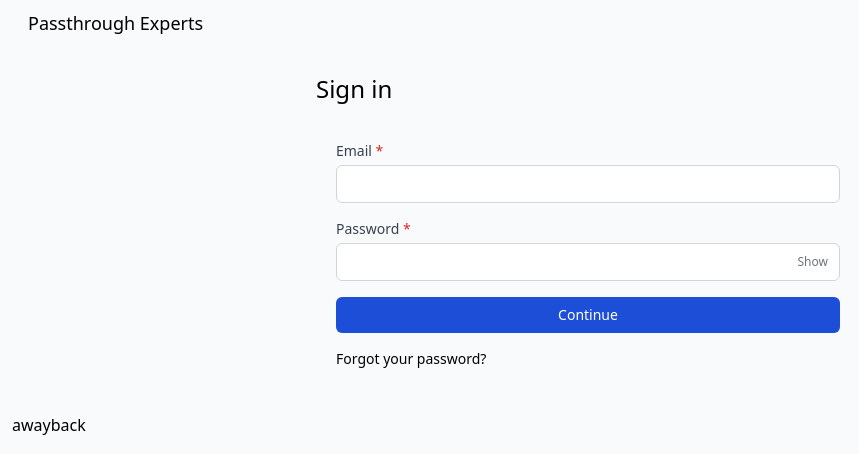
Test case: two-factor enrolment › B10 the setup key is requested once, even when the screen is left and come back to (the server replaces the key on every request)
Type "a@b.co" into the field labelled "Email *" at (588, 184), box x1=336 y1=165 x2=840 y2=203
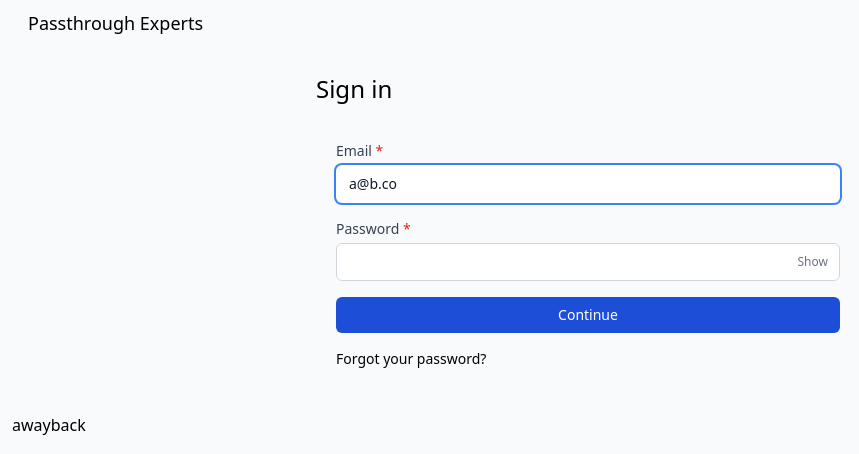
Type "pw" into the password field labelled "Password *" at (588, 262), box x1=336 y1=243 x2=840 y2=281
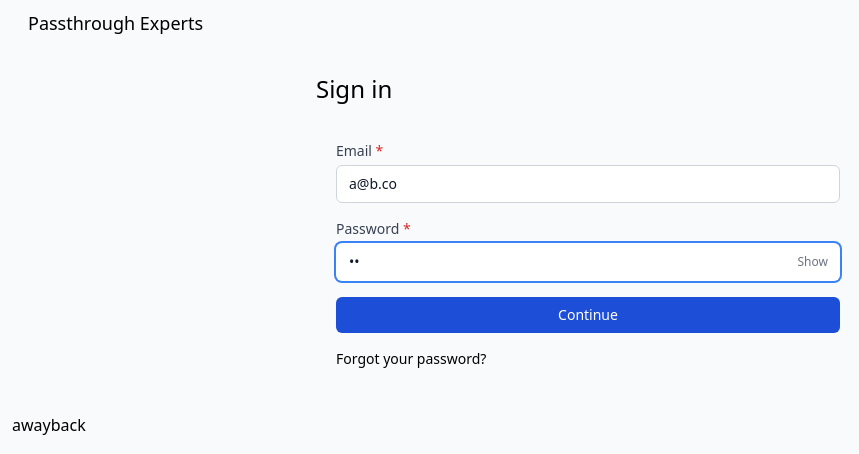
Click the button "Continue" at (588, 315), box x1=336 y1=297 x2=840 y2=333
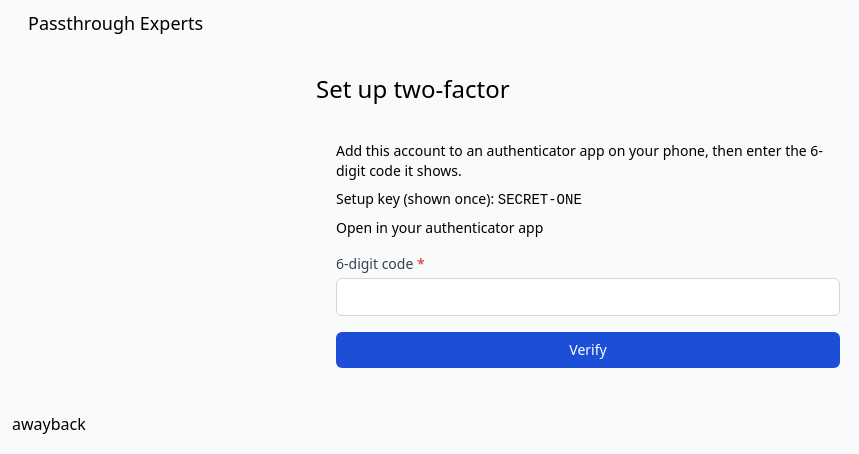
Check: the text with test id "setup-secret" reads "SECRET-ONE", box x1=498 y1=192 x2=582 y2=208
Click the link "away" at (31, 424), box x1=12 y1=413 x2=51 y2=435
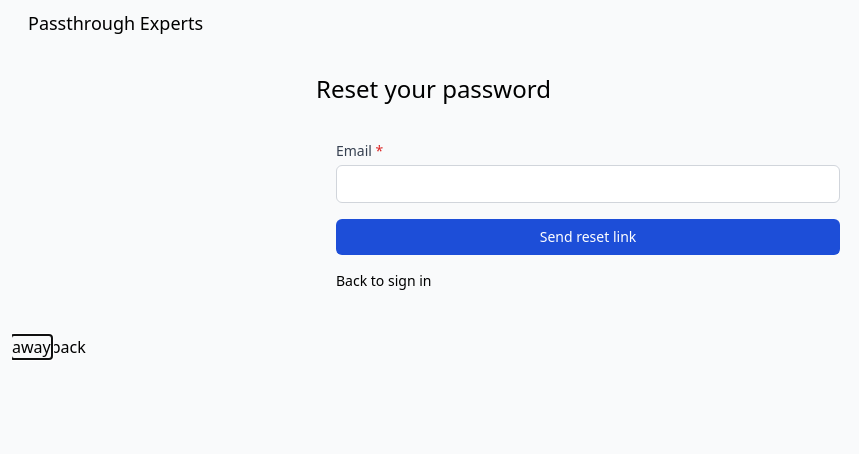
Check: the heading "Reset your password" is shown, box x1=316 y1=72 x2=551 y2=105
Click the link "back" at (68, 347), box x1=51 y1=336 x2=86 y2=358
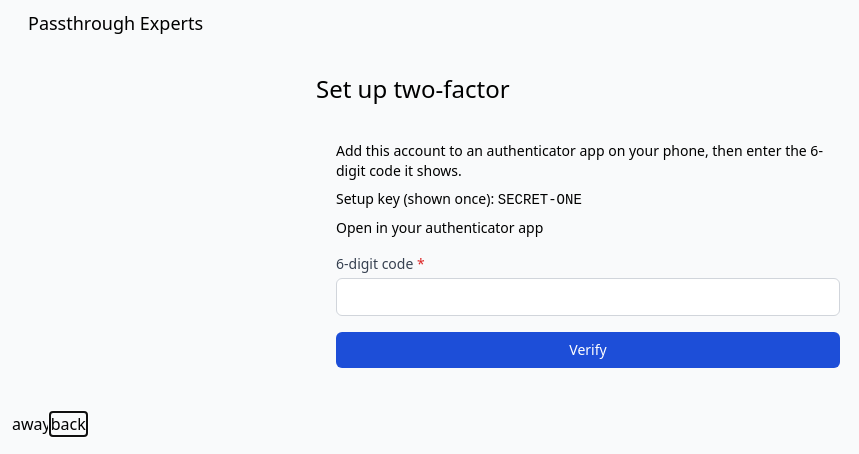
Check: the text with test id "setup-secret" reads "SECRET-ONE", box x1=498 y1=192 x2=582 y2=208
